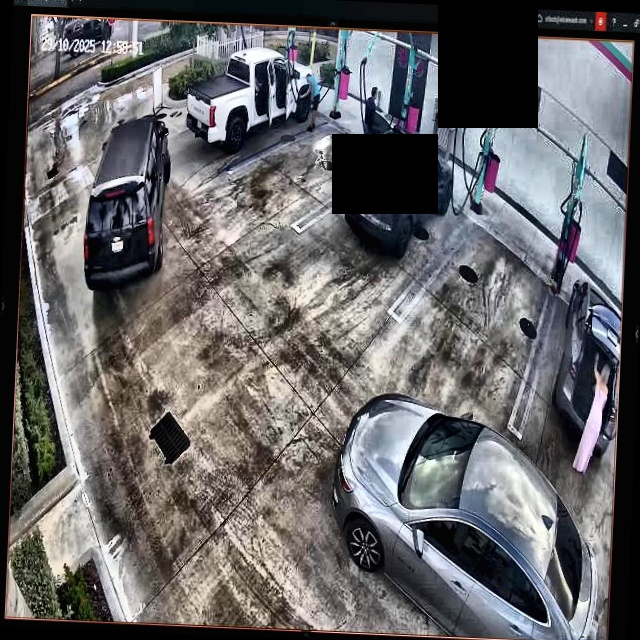Car: (326, 390, 608, 640), (342, 111, 456, 256), (80, 111, 172, 286)
